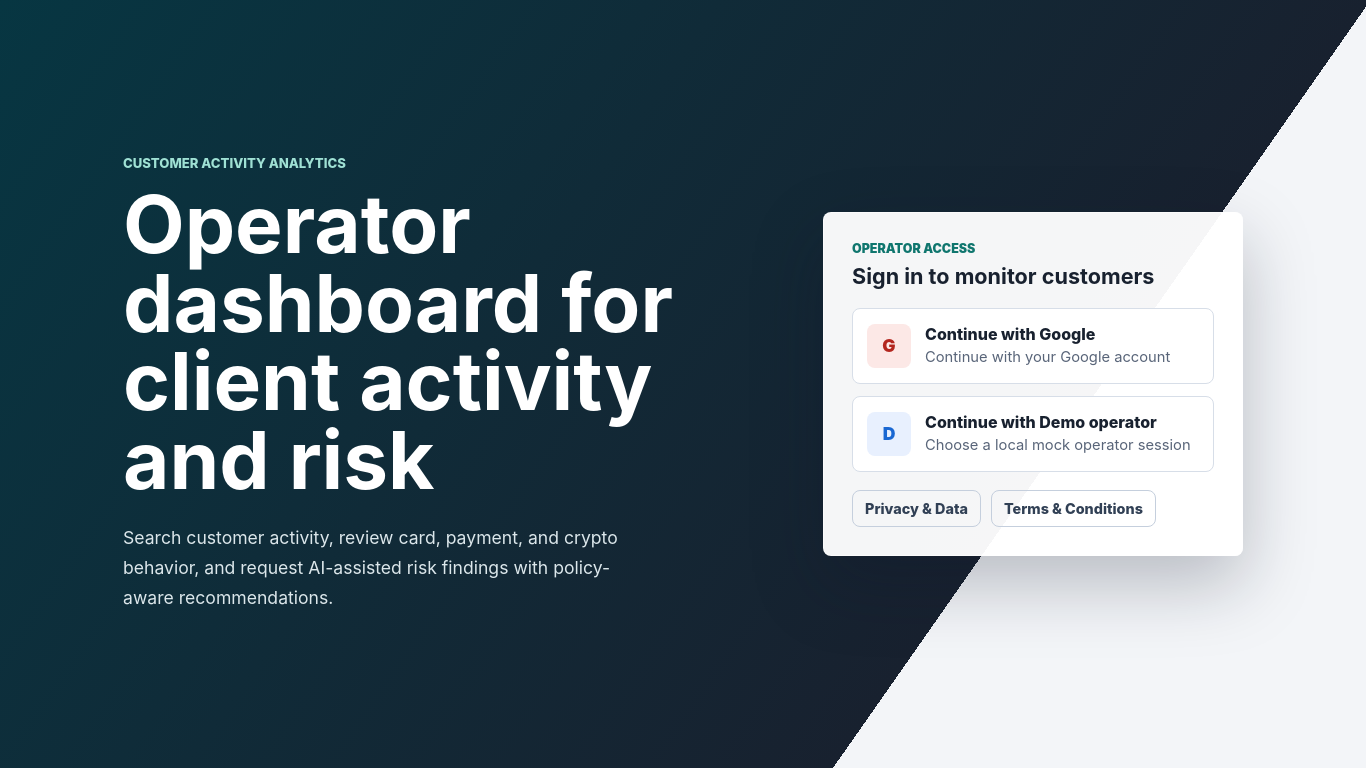
it: App › opens the demo operator chooser from the mock login option
The width and height of the screenshot is (1366, 768).
Click the button "Continue with Demo operator" at (1033, 434), box [852, 396, 1214, 472]
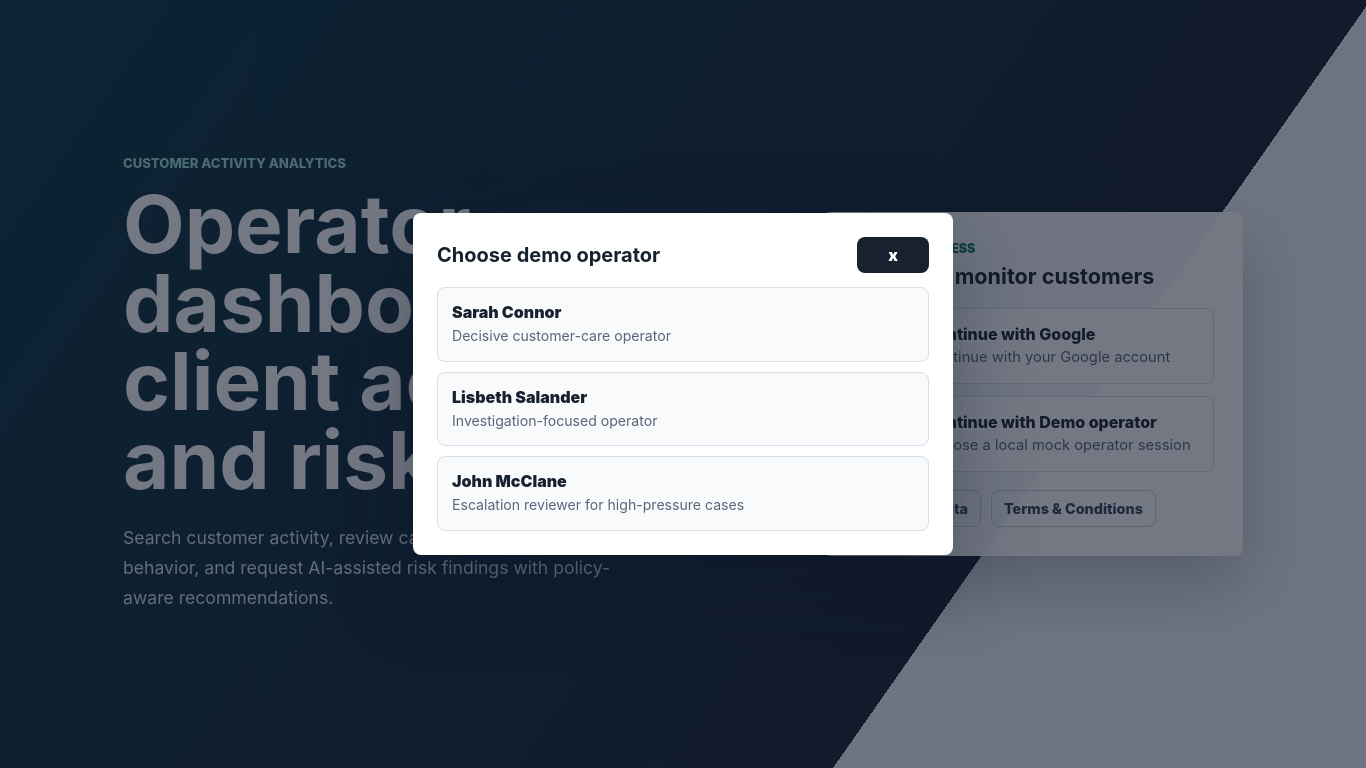
Now the dialog "Choose demo operator" is shown, box [413, 213, 953, 555]
